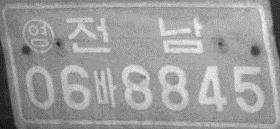0: (24, 64, 55, 110)
4: (196, 64, 227, 112)
5: (231, 65, 264, 114)
6: (59, 63, 92, 111)
8: (156, 63, 189, 112), (119, 63, 152, 111)
바: (92, 67, 117, 108)
영: (21, 17, 56, 54)
전남_D: (64, 15, 205, 55)
